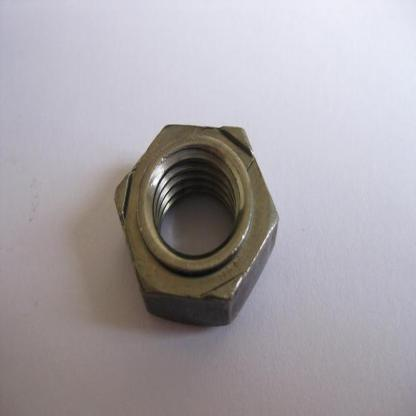FOD: (110, 122, 281, 326)
